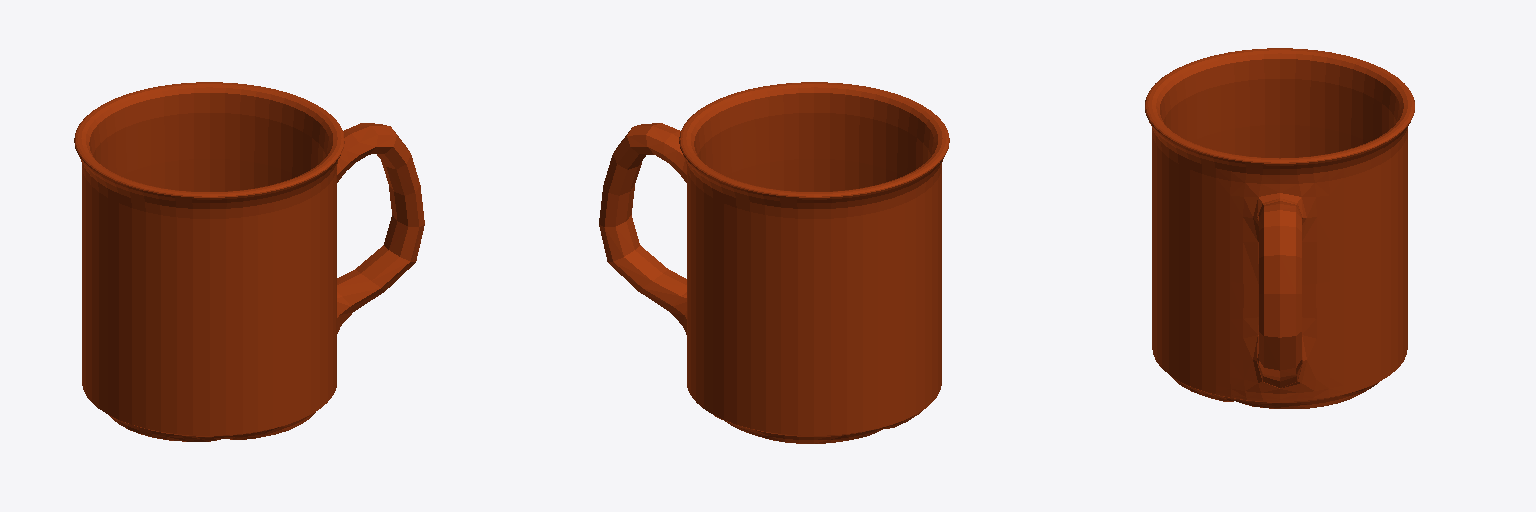
Rendered from Mug.obj.
3 renders of one model, left to right at view 1: azimuth 30°, elevation 25°; view 2: azimuth 150°, elevation 25°; view 3: azimuth 270°, elevation 25°, orthographic.
Parts seen in each view (by area): view 1: Mug; view 2: Mug; view 3: Mug.
Part boxes in pixels (x1,y1,x2,y2): Mug: (74,82,424,441); Mug: (599,82,949,443); Mug: (1145,48,1414,408).
Bounding box in the file's own units: 245 × 184 × 175.